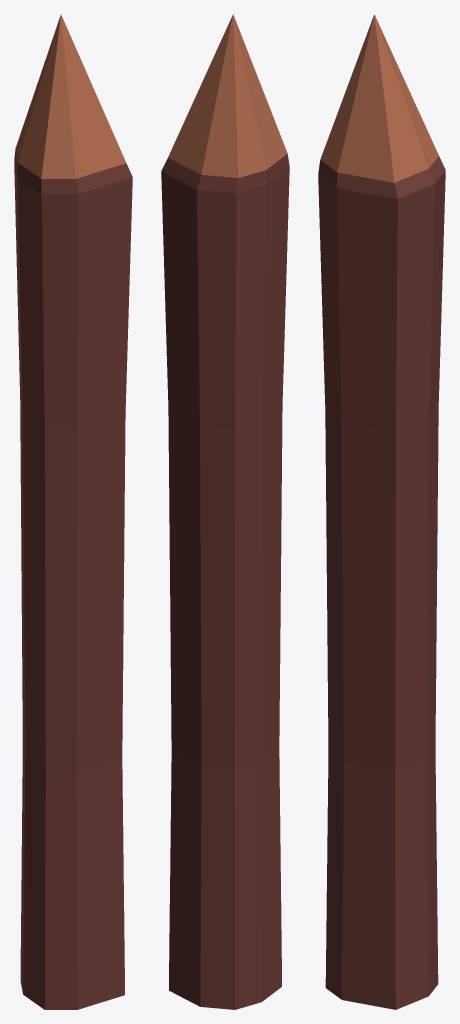
File: Wooden Pole Sharp 15.fbx
3 views of the same model, side by side, from view 1: azimuth 30°, elevation 25°; view 2: azimuth 150°, elevation 25°; view 3: azimuth 330°, elevation 25° (orthographic).
Parts seen in each view (by area): view 1: Wooden Pole Sharp 15; view 2: Wooden Pole Sharp 15; view 3: Wooden Pole Sharp 15.
Boxes of the visible parts, x1,y1,x2,y2 form: Wooden Pole Sharp 15: (14, 14, 132, 1009); Wooden Pole Sharp 15: (161, 14, 289, 1009); Wooden Pole Sharp 15: (318, 14, 445, 1009).
Size of the model in its own units: 30.84 by 292 by 30.34.
